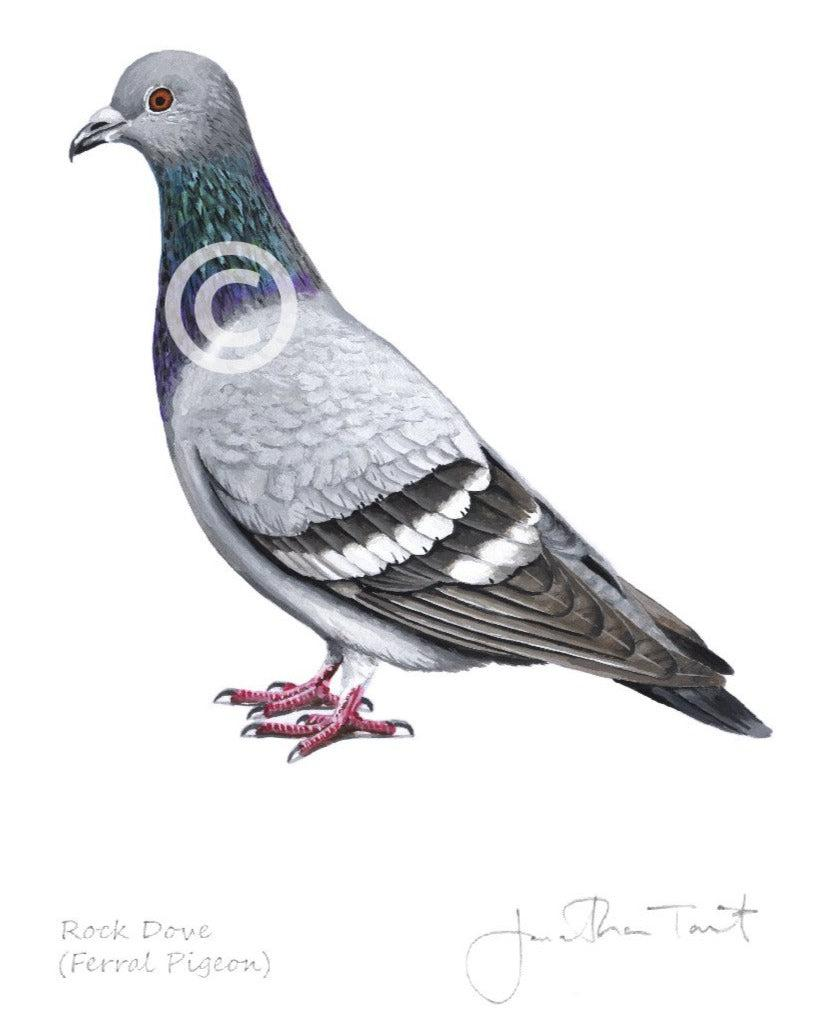Flying Rat: (68, 45, 771, 780)
